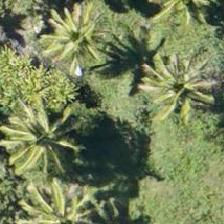Kelapa_Sawit: (0, 91, 88, 181), (139, 42, 223, 133), (38, 0, 128, 83)
